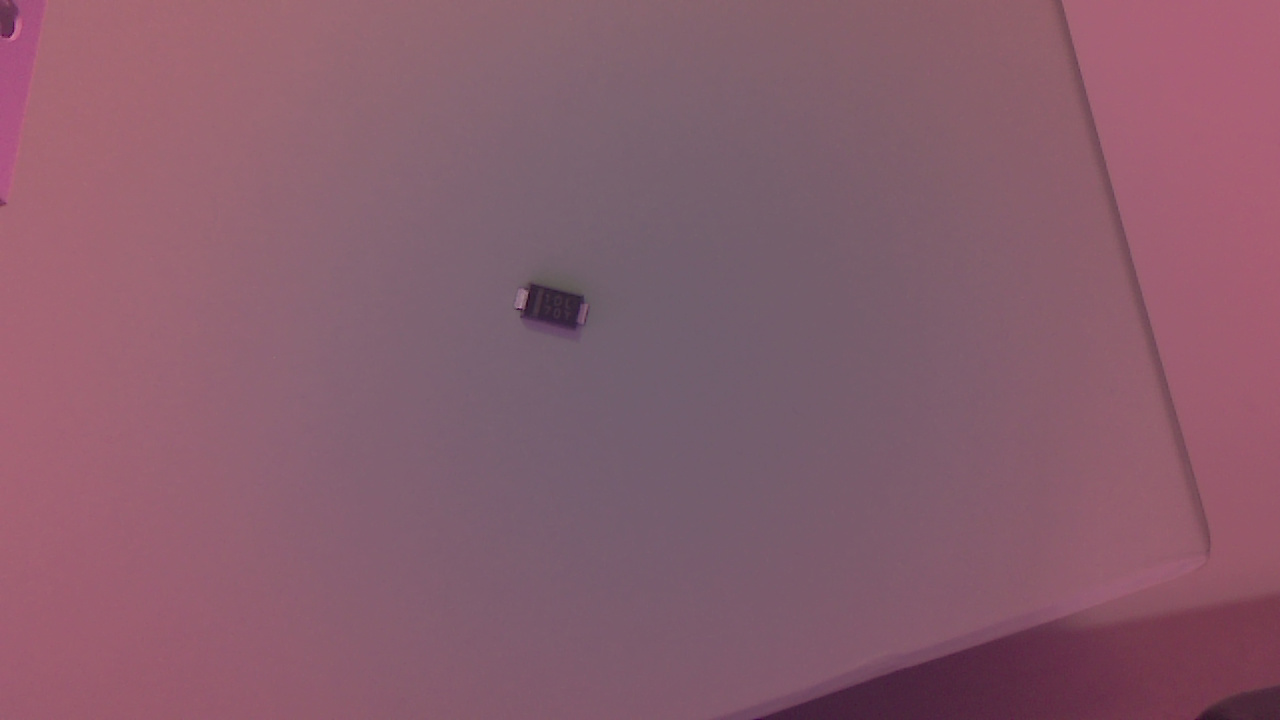Diode: (516, 286, 596, 340)
